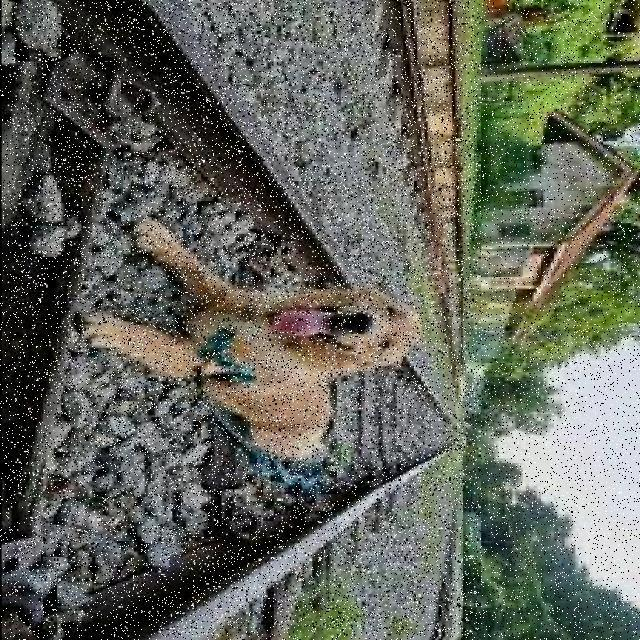danger: (90, 215, 428, 508)
rail: (6, 2, 477, 637)
